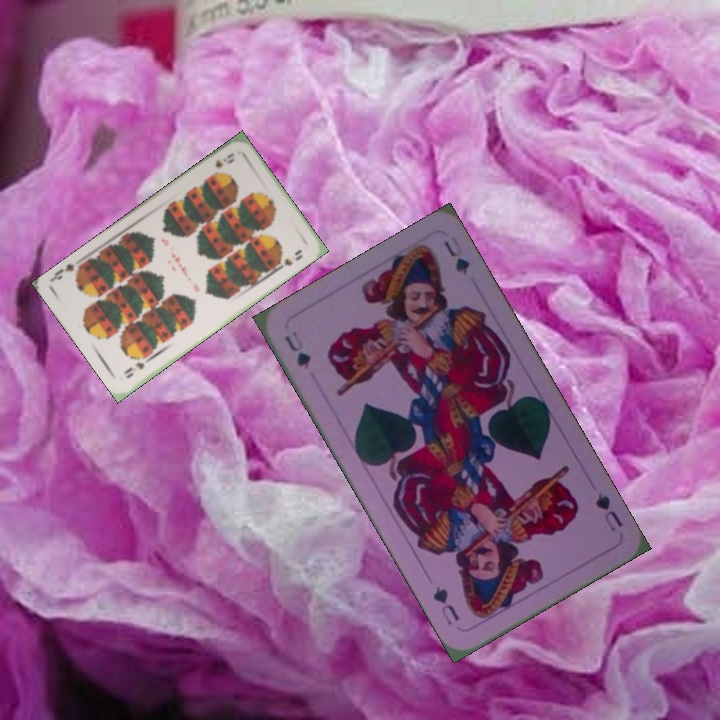GU: (591, 488, 626, 534), (280, 327, 314, 372)
S9: (120, 358, 147, 381), (211, 149, 237, 170)
